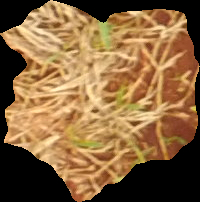soil: (2, 3, 197, 199)
